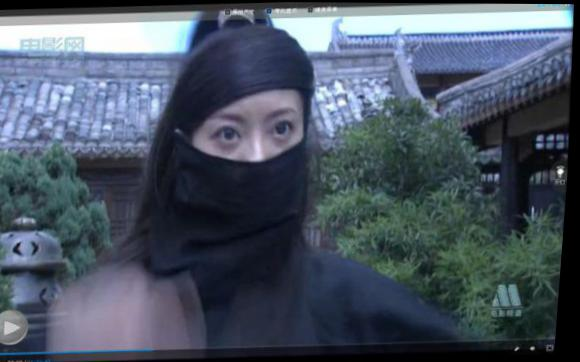WRONG: (189, 97, 318, 231)
